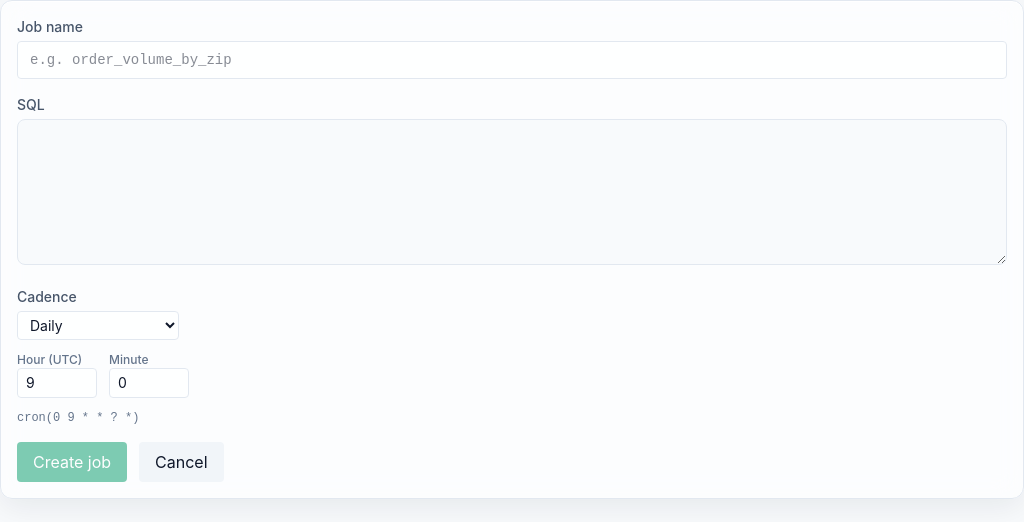
it: JobDefinitionForm › disables Create job until both name and SQL are non-blank
Expected: the button "Create job" is disabled, [17,442,127,482]
Step 1. Type "order_volume_by_zip" into the field labelled "Job name" → (512, 60), box [17,41,1007,79]
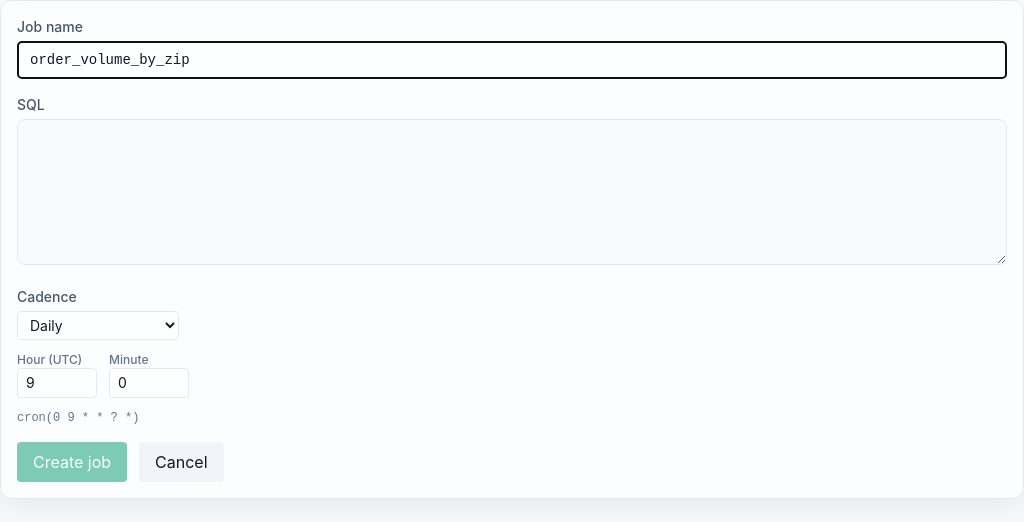
Expected: the button "Create job" is disabled, [17,442,127,482]
Step 2. Type "SELECT 1" into the text box labelled "SQL" → (512, 192), box [17,119,1007,265]
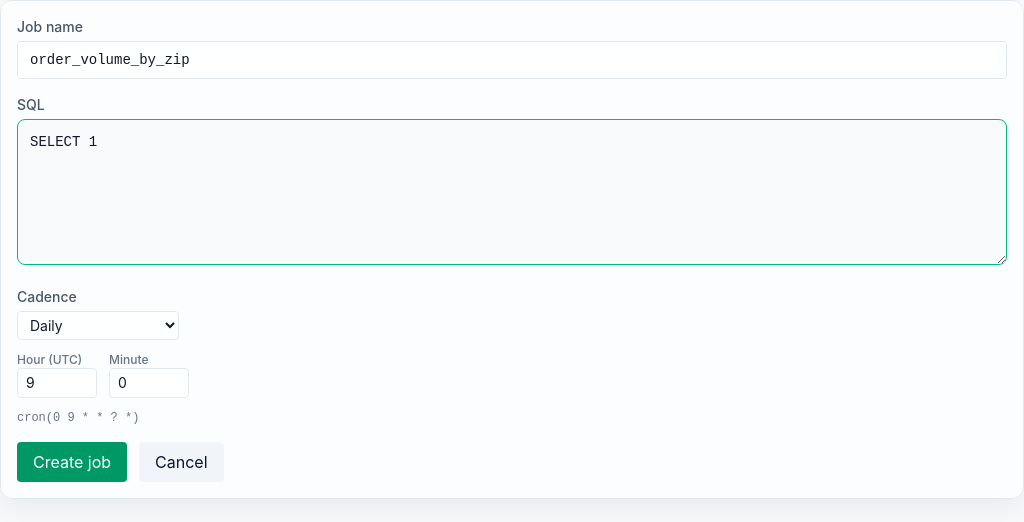
Expected: the button "Create job" is enabled, [17,442,127,482]
